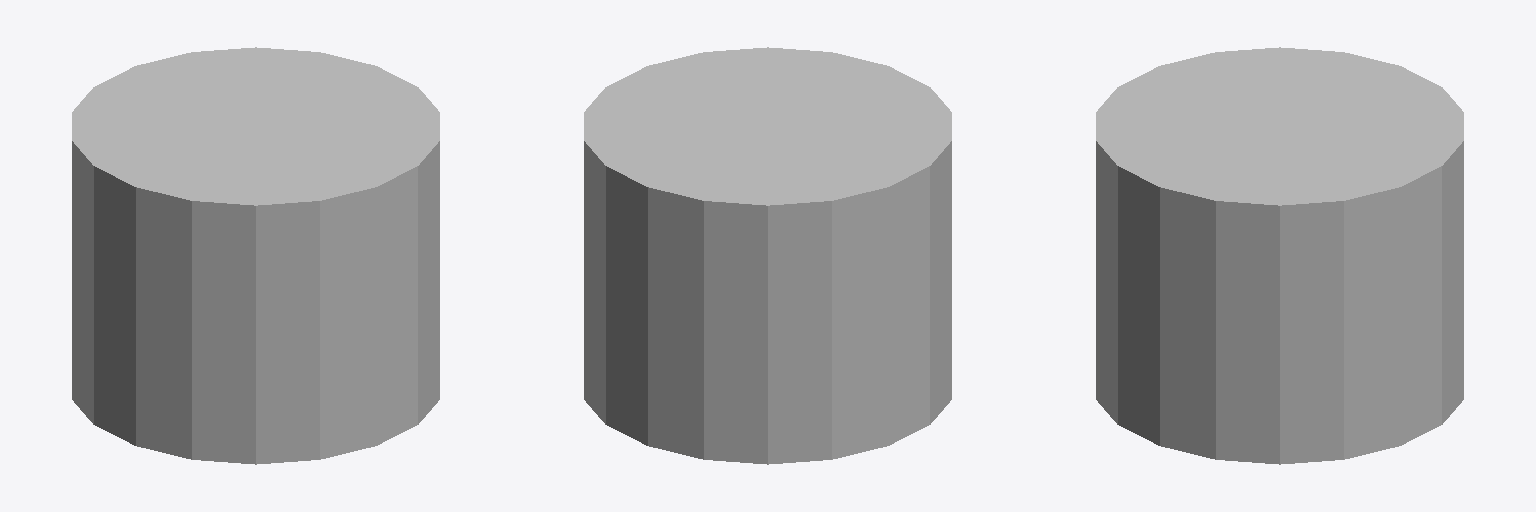
File: Short Cylinder Capped.obj
The picture shows the model from 3 angles: view 1: azimuth 30°, elevation 25°; view 2: azimuth 150°, elevation 25°; view 3: azimuth 270°, elevation 25°; orthographic projection.
Parts seen in each view (by area): view 1: Cylinder002; view 2: Cylinder002; view 3: Cylinder002.
Boxes of the visible parts, <box> form: Cylinder002: <box>72,47,439,464</box>; Cylinder002: <box>584,47,951,464</box>; Cylinder002: <box>1096,47,1463,464</box>.
Bounding box in the file's own units: 21.77 × 16.61 × 21.44.